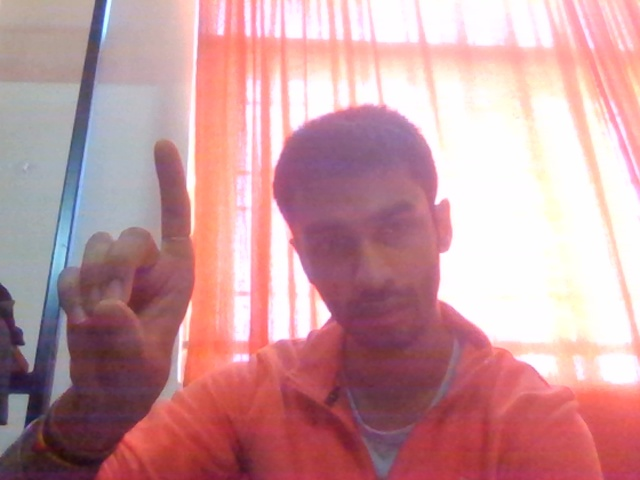D: (38, 122, 216, 429)
